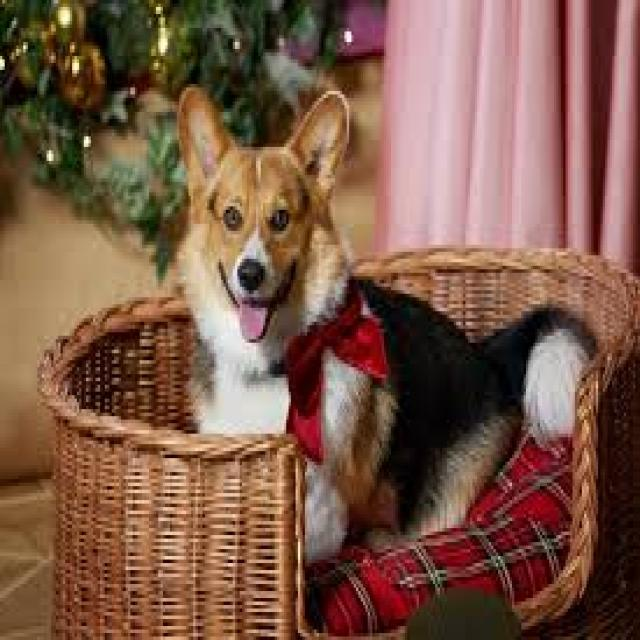CORGI: (161, 98, 588, 546)
